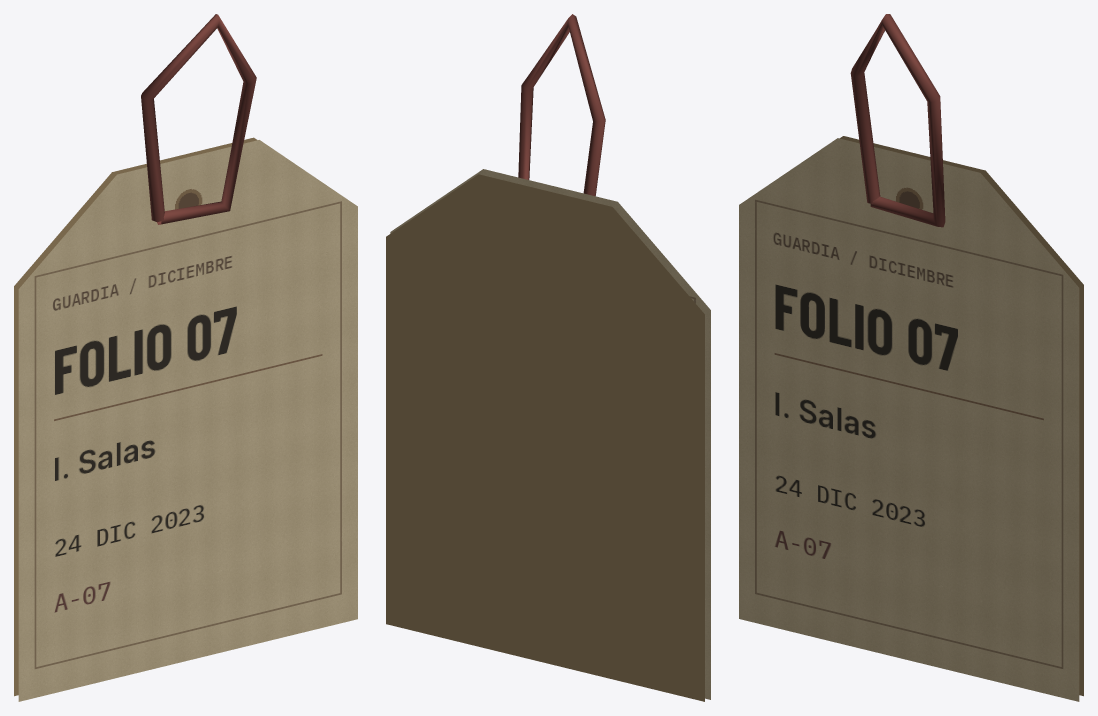
The model's file is tag-07.glb.
3 renders of one model, left to right at view 1: azimuth 30°, elevation 25°; view 2: azimuth 150°, elevation 25°; view 3: azimuth 330°, elevation 25°, orthographic. The views are drawn at different scales.
Visible parts, largest first — view 1: TAG_FACE_07, TAG_THREAD_07, TAG_BACK_07; view 2: TAG_BACK_07, TAG_FACE_07, TAG_THREAD_07; view 3: TAG_FACE_07, TAG_THREAD_07, TAG_BACK_07.
Boxes of the visible parts, <box> form: TAG_FACE_07: <box>18,140,357,701</box>; TAG_THREAD_07: <box>141,14,256,224</box>; TAG_BACK_07: <box>14,137,257,696</box>; TAG_BACK_07: <box>386,174,704,701</box>; TAG_FACE_07: <box>390,169,710,699</box>; TAG_THREAD_07: <box>518,14,605,196</box>; TAG_FACE_07: <box>739,138,1079,701</box>; TAG_THREAD_07: <box>850,14,945,227</box>; TAG_BACK_07: <box>840,136,1083,696</box>.
Size of the model in its own units: 0.22 by 0.4119 by 0.0387.
Materials: 3 (1 with a texture image).
